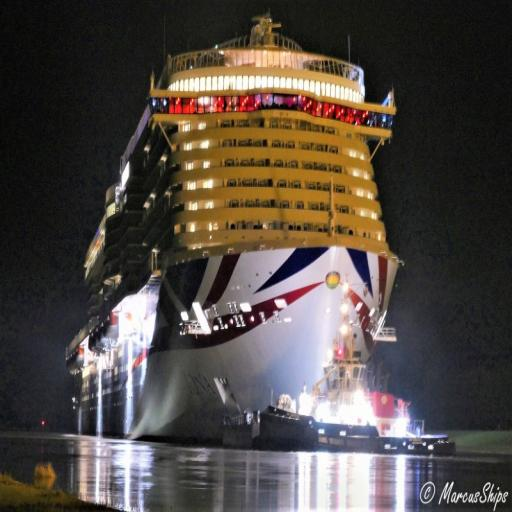cruises: (61, 9, 406, 465)
